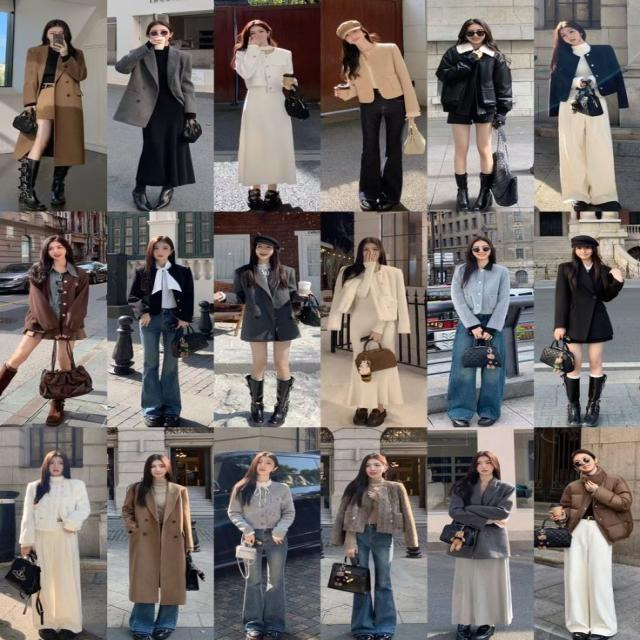person: (212, 234, 312, 426), (332, 19, 422, 212), (0, 234, 90, 426), (112, 20, 201, 211), (330, 452, 420, 639), (548, 448, 634, 640), (326, 236, 412, 426), (548, 20, 628, 218), (434, 18, 514, 212), (12, 19, 87, 211), (552, 235, 624, 428), (120, 453, 194, 640), (18, 450, 90, 640), (229, 19, 300, 210), (446, 450, 516, 640), (226, 452, 296, 640), (126, 235, 194, 428), (446, 236, 510, 427)
